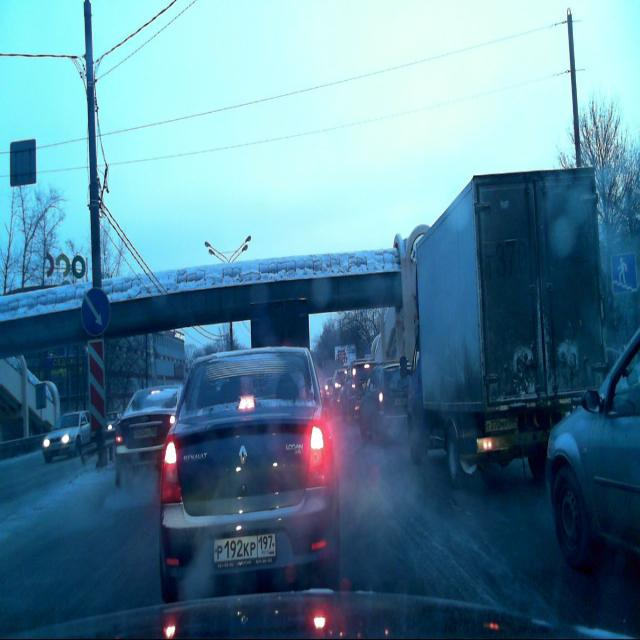object: (87, 340, 106, 434)
road sign: (609, 253, 637, 297)
